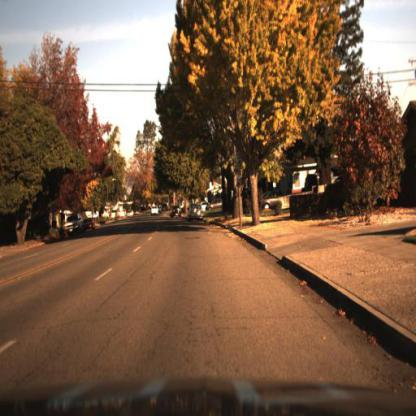car: (258, 188, 294, 215), (62, 205, 85, 239), (259, 190, 280, 211), (186, 202, 205, 224), (187, 202, 206, 223), (204, 199, 229, 214), (83, 216, 100, 234), (168, 203, 183, 222), (171, 204, 183, 220), (151, 204, 161, 220)
